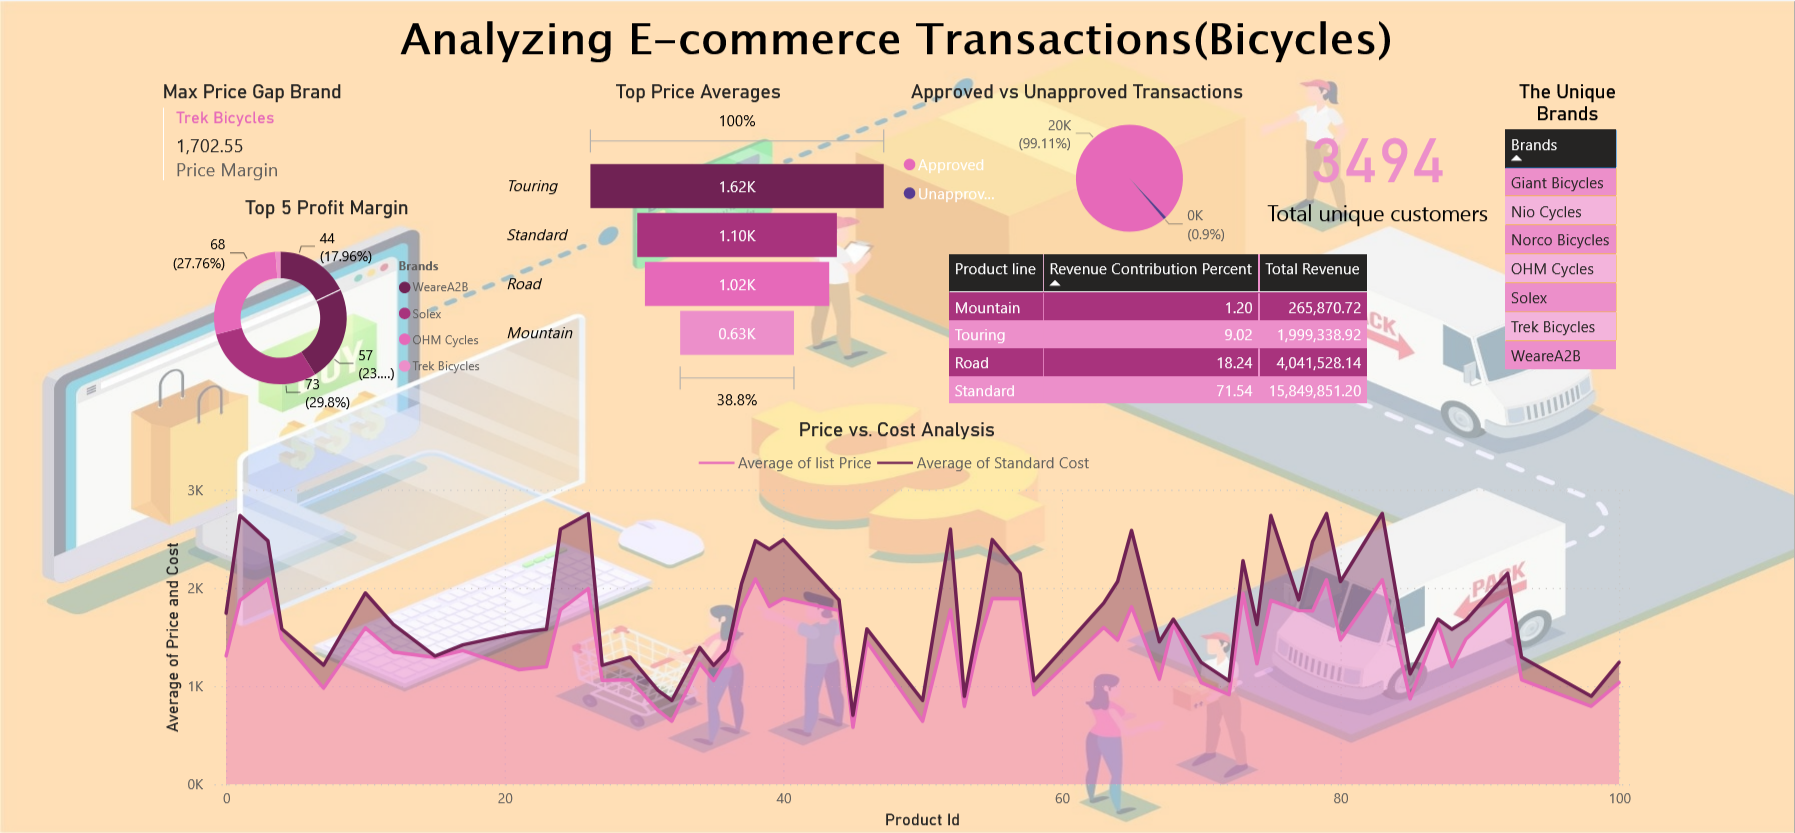

The page's visual inventory and layout, read from the dashboard file:
{"tool":"powerbi","page":{"name":"Dashboard 1","canvas":[1280,720],"ordinal":0},"visuals":[{"type":"textbox","box":[4.1,0,1271,68.6],"z":0},{"type":"tableEx","title":"The Unique Brands","fields":{"Values":["1.Column1"]},"box":[1160.8,68.6,119.7,255.6],"z":1000},{"type":"card","fields":{"Values":["Sum(2.unique_customers)"]},"box":[951.6,68.6,209.2,151.1],"z":2000},{"type":"pieChart","title":"Approved vs Unapproved Transactions","fields":{"Y":["Sum(3.approved_transactions)","Sum(3.unapproved_transactions)"]},"box":[640.2,68.6,311.4,151.1],"z":3000},{"type":"funnel","title":"Top Price Averages","fields":{"Category":["4.product_line"],"Y":["Sum(4.average_list_price)"]},"box":[297.5,68.6,341.6,291.7],"z":4000},{"type":"stackedAreaChart","title":"Price vs. Cost Analysis","fields":{"Category":["5.product_id"],"Y":["Avg(5.list_price)","Avg(5.standard_cost)"]},"box":[0,360.2,1280.5,360.2],"z":5000},{"type":"multiRowCard","title":"Max Price Gap Brand","fields":{"Values":["7.brand","7.price_margin"]},"box":[0,68.6,294,98.8],"z":6000},{"type":"donutChart","title":"Top 5 Profit Margin","fields":{"Category":["10.brand"],"Y":["Sum(10.product_id)"],"Series":["10.product_line"]},"box":[0,168.5,294,191.7],"z":7000},{"type":"tableEx","fields":{"Values":["12.product_line","12.revenue_contribution_percent","12.total_revenue"]},"box":[679.7,213.8,376.5,140.6],"z":7001}]}

Visuals, with their boxes on the page's 1280x720 design canvas (x1, y1, x2, y2). These are canvas units, not pixel positions in the 1795x833 screenshot, which may show the page scaled, cropped or inside an application window:
textbox: 4 0 1275 69
"The Unique Brands" tableEx: 1161 69 1280 324
card - Sum(2.unique_customers): 952 69 1161 220
"Approved vs Unapproved Transactions" pieChart: 640 69 952 220
"Top Price Averages" funnel: 298 69 639 360
"Price vs. Cost Analysis" stackedAreaChart: 0 360 1280 720
"Max Price Gap Brand" multiRowCard: 0 69 294 167
"Top 5 Profit Margin" donutChart: 0 168 294 360
tableEx - 12.product_line x 12.revenue_contribution_percent: 680 214 1056 354
